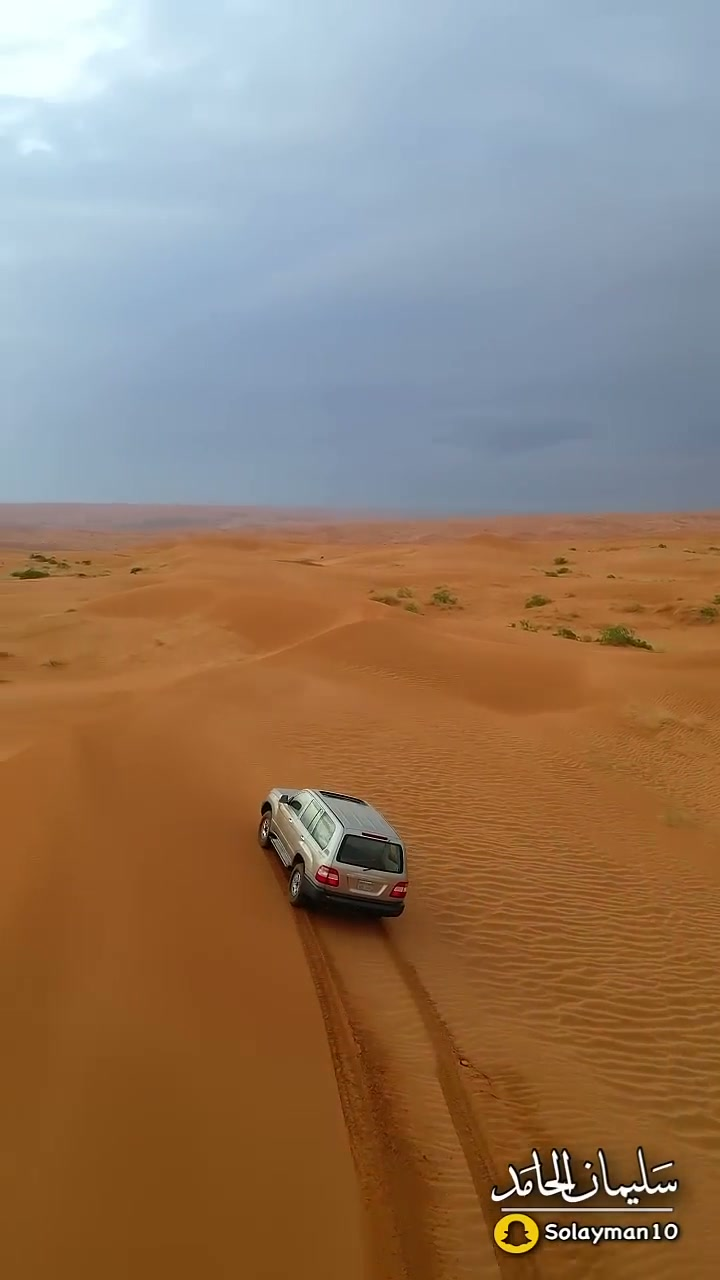vehicle_track: (298, 912, 610, 1279), (299, 914, 516, 1279), (297, 915, 439, 1279), (381, 932, 500, 1238)
